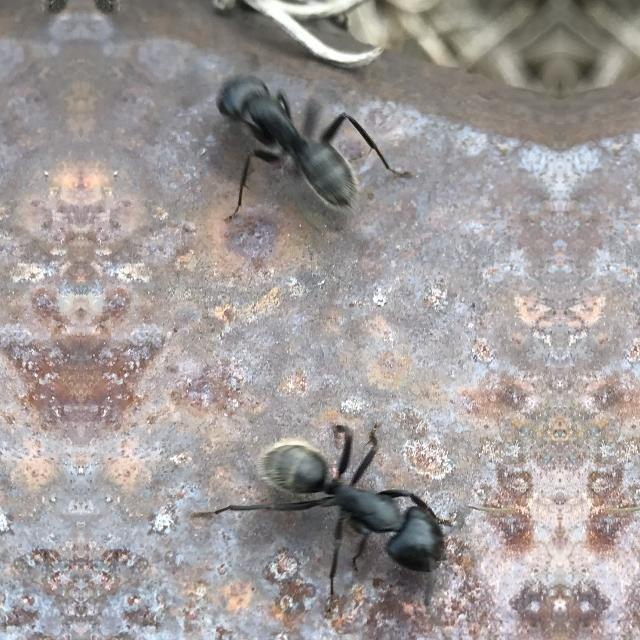Camponotus: (226, 407, 462, 585), (190, 46, 386, 225)
